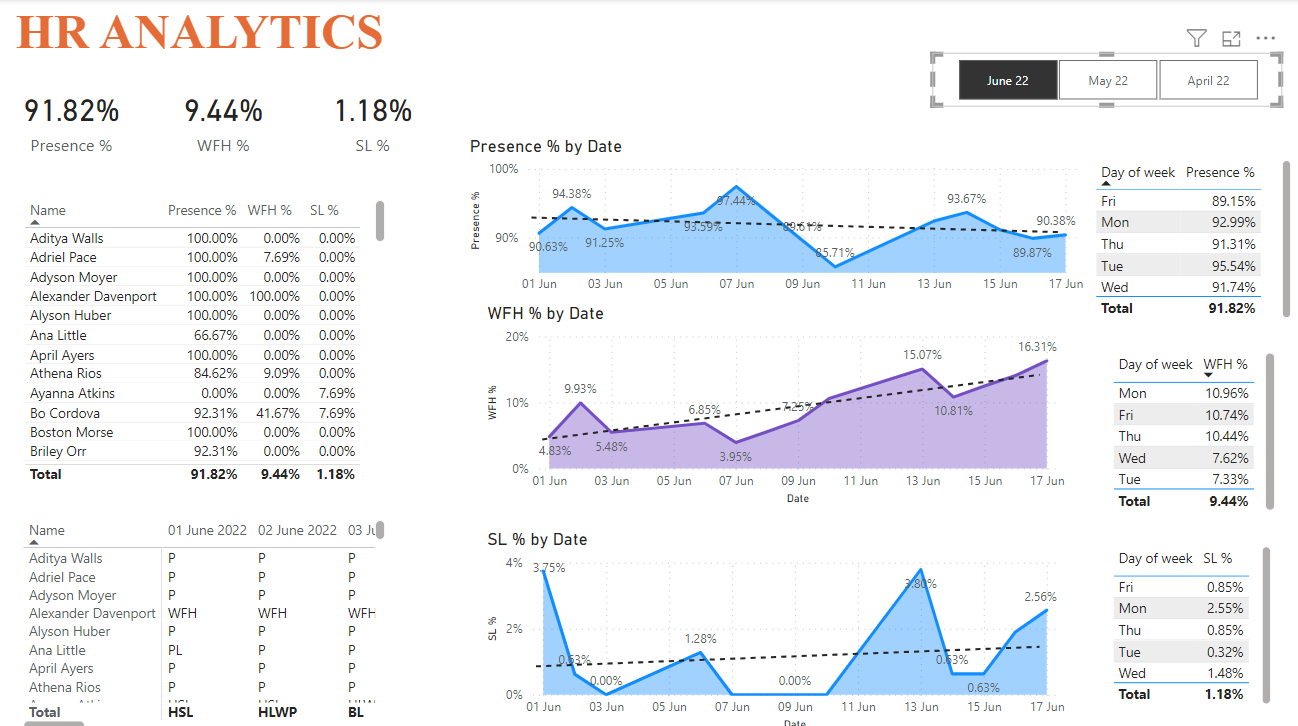

Layout of this report page (visuals, bound fields, positions):
{"tool":"powerbi","page":{"name":"Presence Overview","canvas":[1280,720],"ordinal":0},"visuals":[{"type":"card","fields":{"Values":["Measure Table.Presence %"]},"box":[0,52.6,147.9,129.6],"z":0},{"type":"slicer","fields":{"Values":["Final Data.Month"]},"box":[915.6,52.6,342.3,52.6],"z":1000},{"type":"card","fields":{"Values":["Measure Table.WFH %"]},"box":[147.9,52.6,149.1,129.6],"z":2000},{"type":"card","fields":{"Values":["Measure Table.SL %"]},"box":[297,52.6,143,129.6],"z":3000},{"type":"tableEx","fields":{"Values":["Final Data.Name","Measure Table.Presence %","Measure Table.WFH %","Measure Table.SL %"]},"box":[22,191.9,363.1,286],"z":4000},{"type":"pivotTable","fields":{"Rows":["Final Data.Name"],"Values":["Min(Final Data.Value)"],"Columns":["Final Data.Date"]},"box":[22,504.9,363.1,215.1],"z":5000},{"type":"areaChart","fields":{"Category":["Final Data.Date"],"Y":["Measure Table.Presence %"]},"box":[458.7,132.7,610.6,163.7],"z":6000},{"type":"areaChart","fields":{"Category":["Final Data.Date"],"Y":["Measure Table.WFH %"]},"box":[474.9,296.5,575.2,202.1],"z":7000},{"type":"areaChart","fields":{"Category":["Final Data.Date"],"Y":["Measure Table.SL %"]},"box":[474.9,517.7,575.2,202.1],"z":8000},{"type":"tableEx","fields":{"Values":["Final Data.Day of week","Measure Table.WFH %"]},"box":[1086.7,341.1,168.7,163.8],"z":9000},{"type":"tableEx","fields":{"Values":["Final Data.Day of week","Measure Table.Presence %"]},"box":[1069.6,152.8,201.7,163.8],"z":10000},{"type":"tableEx","fields":{"Values":["Final Data.Day of week","Measure Table.SL %"]},"box":[1086.7,530.5,165,163.8],"z":10001},{"type":"textbox","box":[0,0,398.5,70.9],"z":10002}]}

Visuals, with their boxes in screenshot pixels (x1, y1, x2, y2), scaled from the page's 1280x720 canvas onto the 1298x726 screenshot:
card - Measure Table.Presence %: <region>0, 53, 150, 184</region>
slicer - Final Data.Month: <region>928, 53, 1276, 106</region>
card - Measure Table.WFH %: <region>150, 53, 301, 184</region>
card - Measure Table.SL %: <region>301, 53, 446, 184</region>
tableEx - Final Data.Name x Measure Table.Presence %: <region>22, 193, 391, 482</region>
pivotTable - Final Data.Name x Min(Final Data.Value): <region>22, 509, 391, 725</region>
areaChart - Final Data.Date x Measure Table.Presence %: <region>465, 134, 1084, 299</region>
areaChart - Final Data.Date x Measure Table.WFH %: <region>482, 299, 1065, 503</region>
areaChart - Final Data.Date x Measure Table.SL %: <region>482, 522, 1065, 725</region>
tableEx - Final Data.Day of week x Measure Table.WFH %: <region>1102, 344, 1273, 509</region>
tableEx - Final Data.Day of week x Measure Table.Presence %: <region>1085, 154, 1289, 319</region>
tableEx - Final Data.Day of week x Measure Table.SL %: <region>1102, 535, 1269, 700</region>
textbox: <region>0, 0, 404, 71</region>
